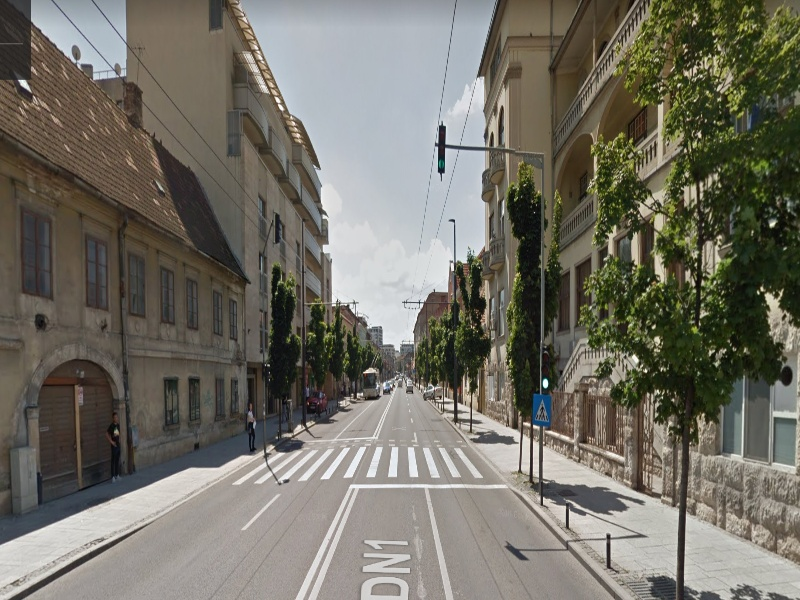crosswalk: (229, 443, 502, 491)
crosswalk_sign: (530, 393, 553, 429)
pedestrian: (102, 407, 130, 485), (240, 402, 262, 455)
semaphore: (539, 341, 556, 395), (436, 121, 448, 178)
